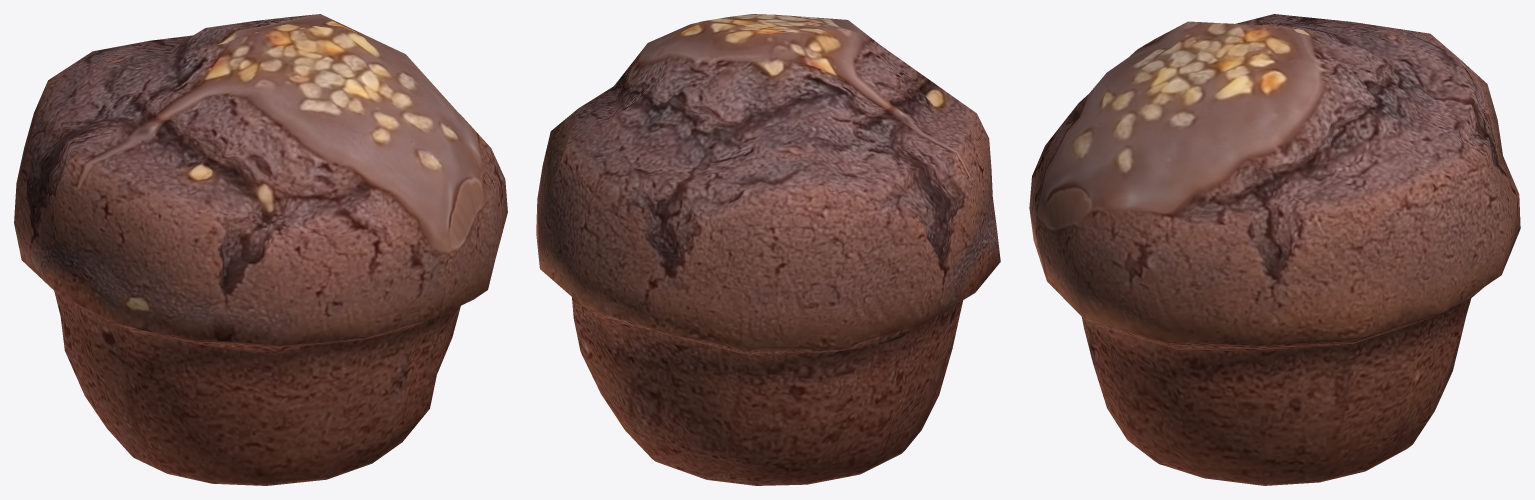
File: Chocolate Muffin.fbx
3 views of the same model, side by side, from view 1: azimuth 30°, elevation 25°; view 2: azimuth 150°, elevation 25°; view 3: azimuth 270°, elevation 25° (orthographic). The views are drawn at different scales.
Parts seen in each view (by area): view 1: Chocolate Muffin; view 2: Chocolate Muffin; view 3: Chocolate Muffin.
Part boxes in pixels (box(x1,y1,x2,y2)): Chocolate Muffin: box(14, 14, 507, 485); Chocolate Muffin: box(536, 14, 1000, 485); Chocolate Muffin: box(1029, 14, 1520, 485).
Size of the model in its own units: 8.34 by 7.64 by 8.51.
